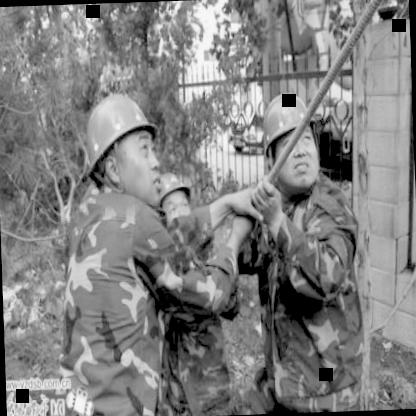helmet: (75, 83, 169, 214), (255, 82, 318, 194), (154, 167, 195, 229)
